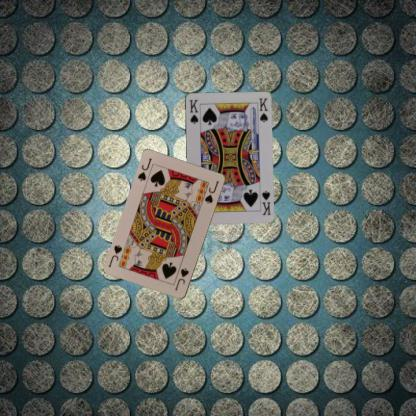Js: (172, 265, 190, 292), (135, 156, 153, 182)
Ks: (187, 97, 199, 125), (259, 188, 271, 216)
